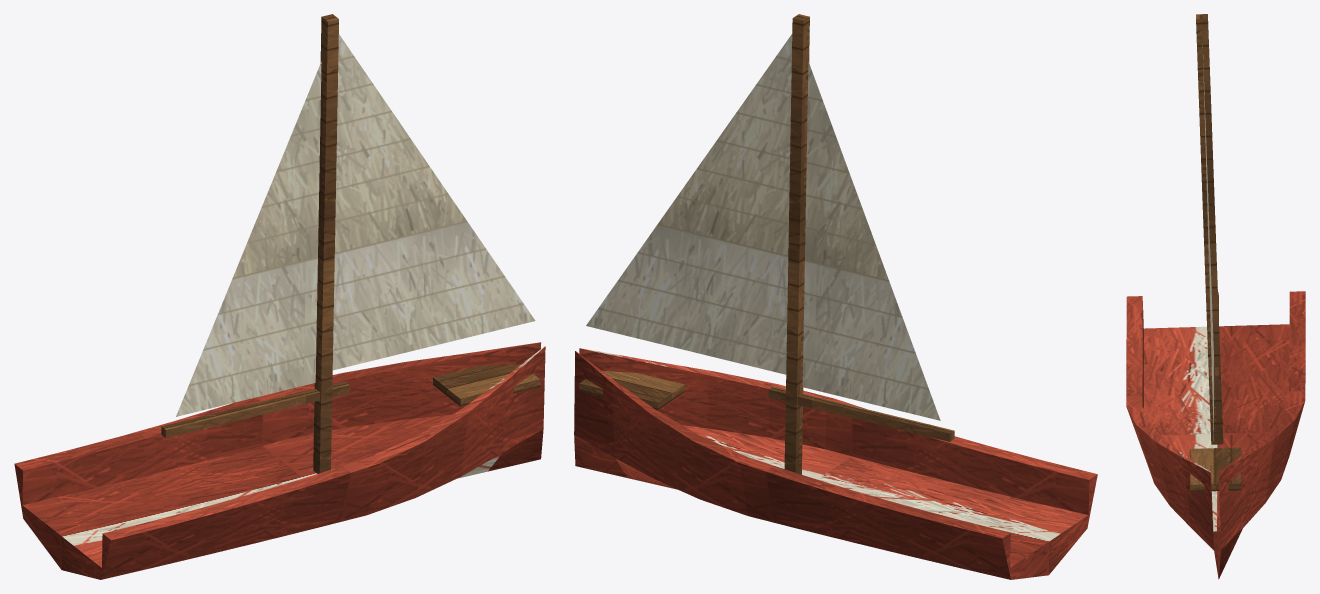
File: velero.glb
The picture shows the model from 3 angles, left to right: view 1: azimuth 30°, elevation 25°; view 2: azimuth 150°, elevation 25°; view 3: azimuth 270°, elevation 25°; orthographic projection. The views are drawn at different scales.
Visible parts, largest first — view 1: Velero_casco; view 2: Velero_casco; view 3: Velero_casco.
Boxes of the visible parts, x1,y1,x2,y2 form: Velero_casco: [14, 14, 545, 579]; Velero_casco: [574, 14, 1097, 579]; Velero_casco: [1126, 14, 1305, 579].
Bounding box in the file's own units: 12 × 12 × 4.2.
3 materials, 3 textured.
